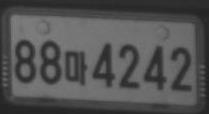2: (169, 46, 193, 92), (119, 44, 140, 89)
4: (143, 44, 168, 90), (91, 42, 115, 87)
8: (38, 39, 62, 84), (13, 39, 36, 83)
마: (64, 50, 88, 86)
